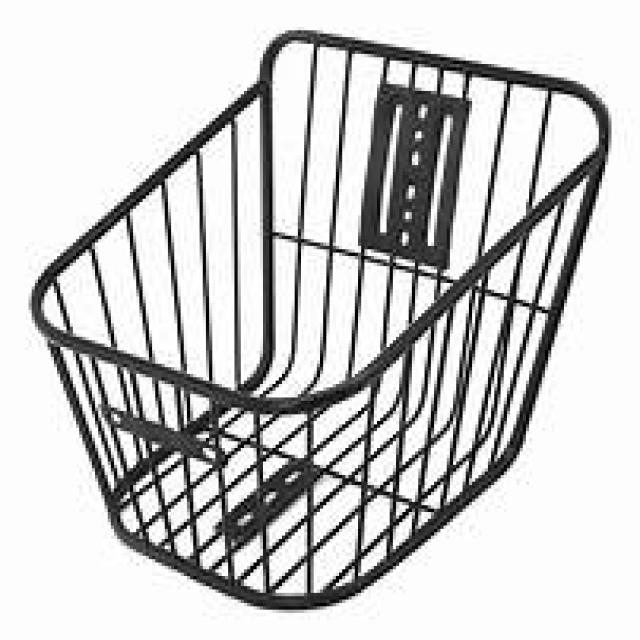basket: (30, 29, 609, 612)
